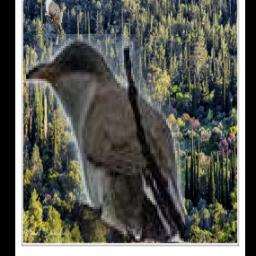Cuckoo: (27, 34, 186, 242), (45, 0, 66, 45)
